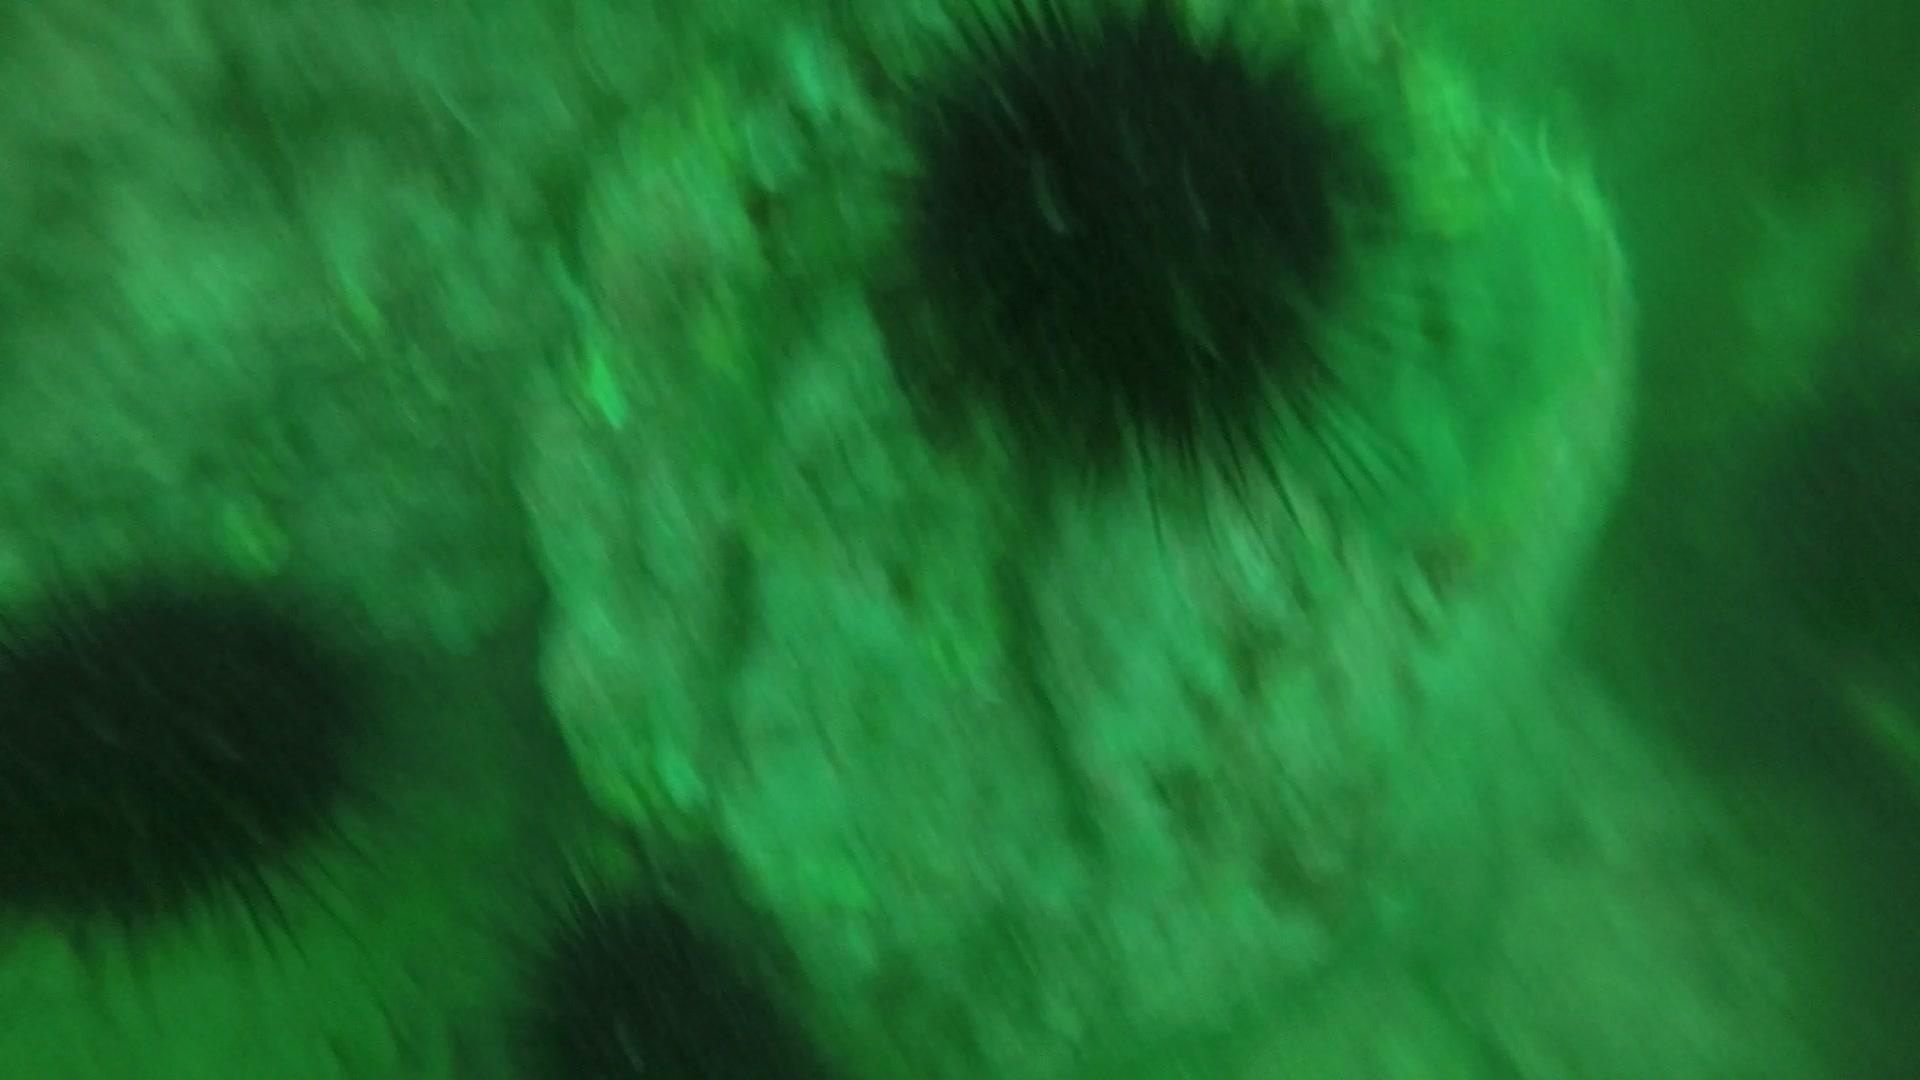echinus: (869, 5, 1393, 505), (0, 547, 393, 955), (497, 840, 831, 1077), (1739, 349, 1919, 666)
